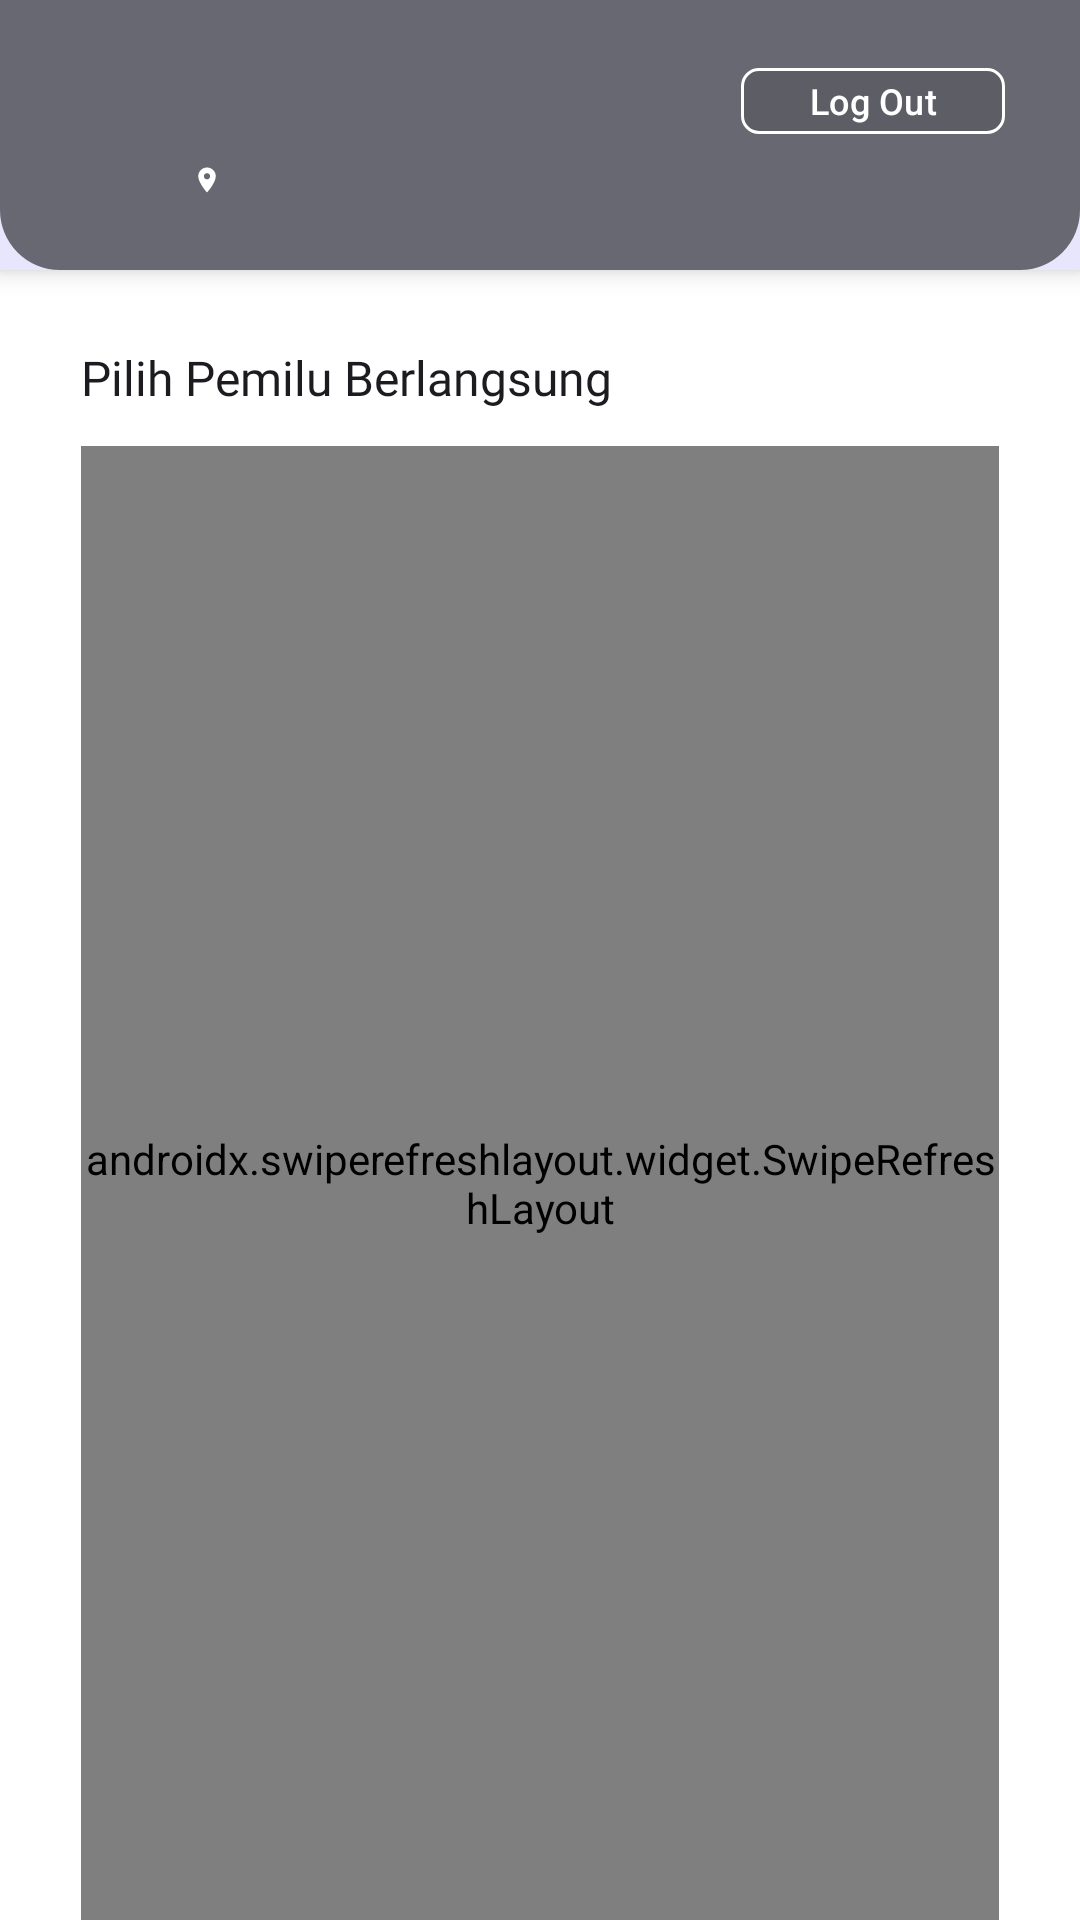

Locate icon controls on the screen. Image size 1080w x 1920h, boxes as BBox(x1, y1, x2, y2).
location: BBox(198, 167, 216, 192)
